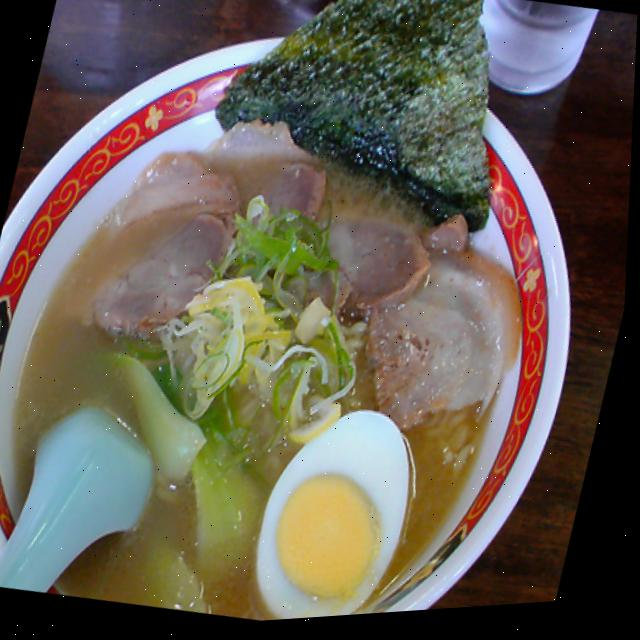面条主食: (0, 23, 584, 640)
